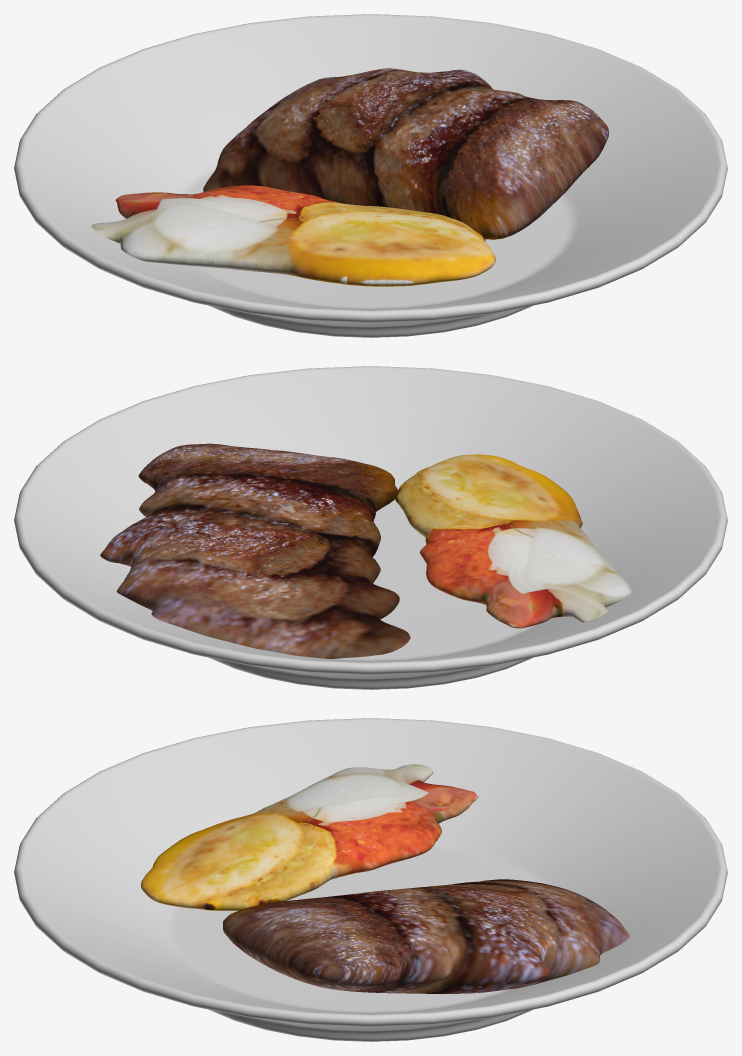
The model's file is izmir.glb.
3 views of the same model, one above another, from view 1: azimuth 30°, elevation 25°; view 2: azimuth 150°, elevation 25°; view 3: azimuth 270°, elevation 25° (orthographic).
Visible parts, largest first — view 1: root, mm_frame.obj (×2); view 2: root, mm_frame.obj (×2); view 3: root, mm_frame.obj (×2).
Part boxes in pixels (bbox=[...]): root: bbox=[14, 14, 727, 337]; mm_frame.obj (×2): bbox=[91, 68, 608, 286]; root: bbox=[14, 366, 727, 689]; mm_frame.obj (×2): bbox=[100, 443, 632, 658]; root: bbox=[14, 718, 727, 1041]; mm_frame.obj (×2): bbox=[140, 764, 629, 993].
Size of the model in its own units: 0.15 by 0.0232 by 0.15.
Materials: 3 (2 with a texture image).
